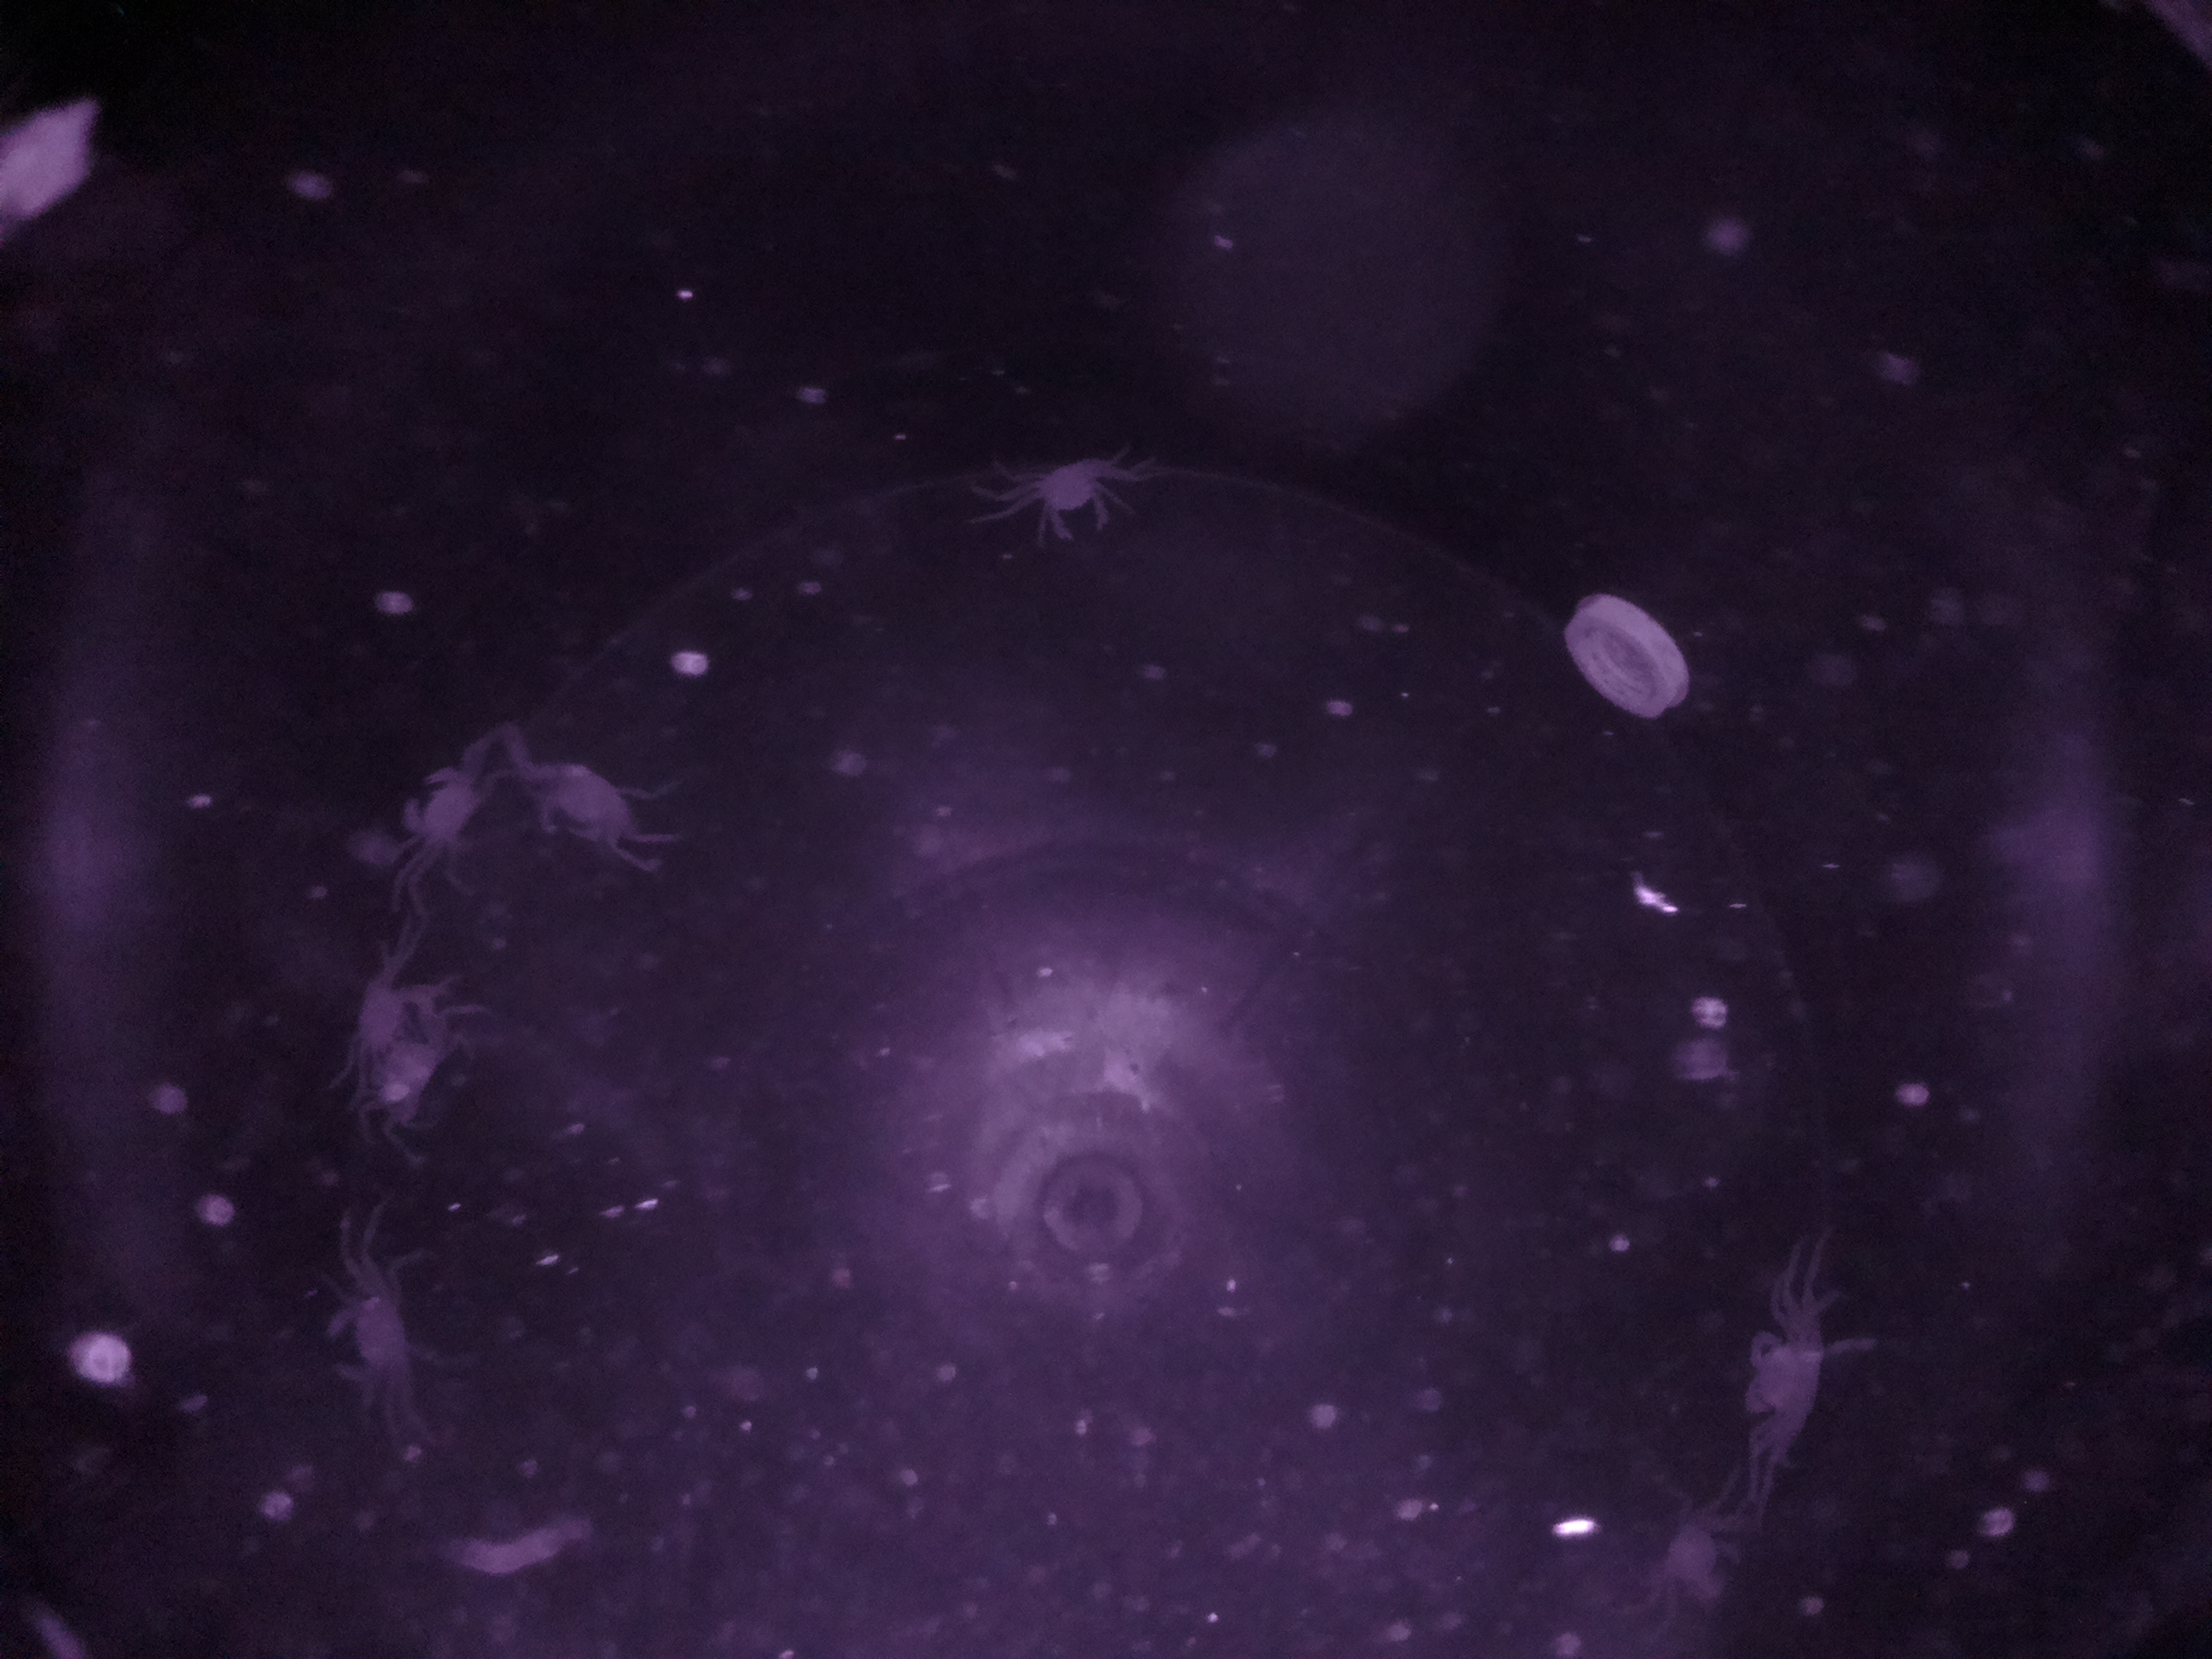Crab: (509, 706, 648, 870), (1714, 1298, 1850, 1453), (305, 1272, 458, 1406), (380, 749, 496, 882), (1019, 439, 1123, 565)
